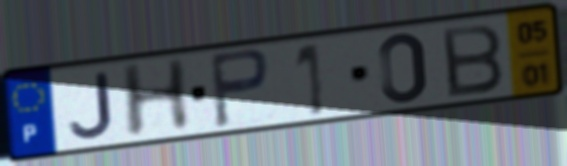0: (375, 31, 428, 107)
1: (292, 40, 327, 118)
B: (437, 21, 507, 100)
H: (116, 55, 195, 143)
J: (66, 69, 117, 141)
P: (207, 46, 274, 131)
